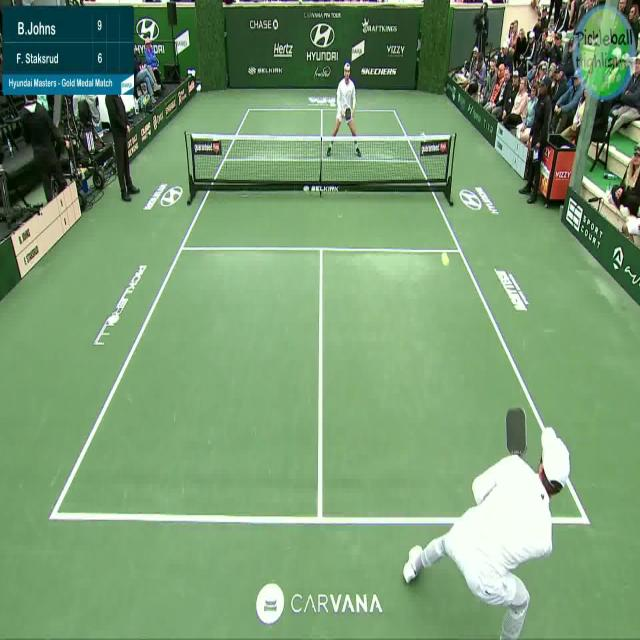ball: (439, 243, 452, 273)
